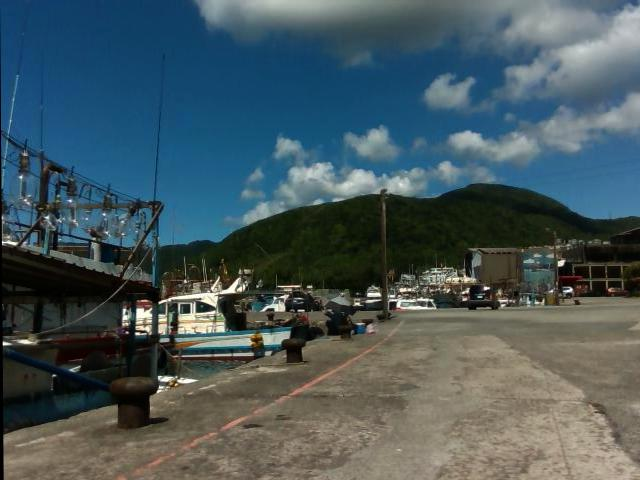pollute: (365, 321, 376, 335)
